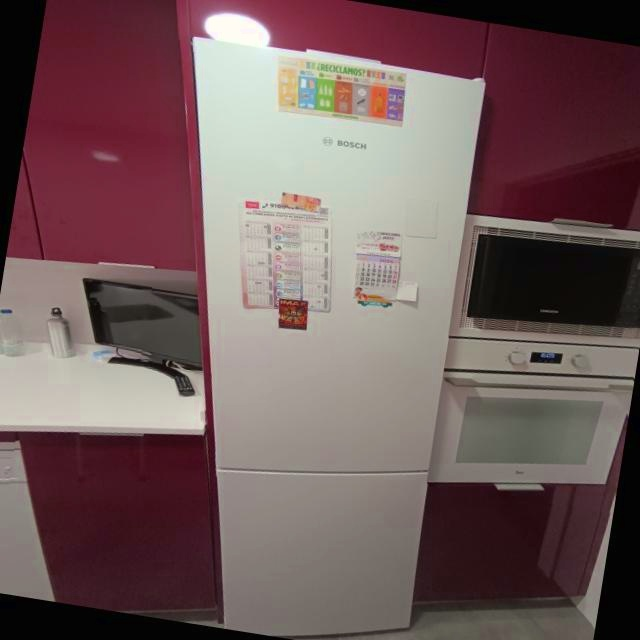cabinet: (6, 0, 197, 271), (17, 429, 224, 628), (469, 23, 640, 232), (412, 484, 613, 614), (177, 0, 489, 80)
countertop: (0, 353, 205, 438)
fridge: (190, 39, 486, 640)
microwave: (449, 216, 640, 350)
monitor: (83, 279, 203, 394)
oven: (428, 339, 638, 486)
